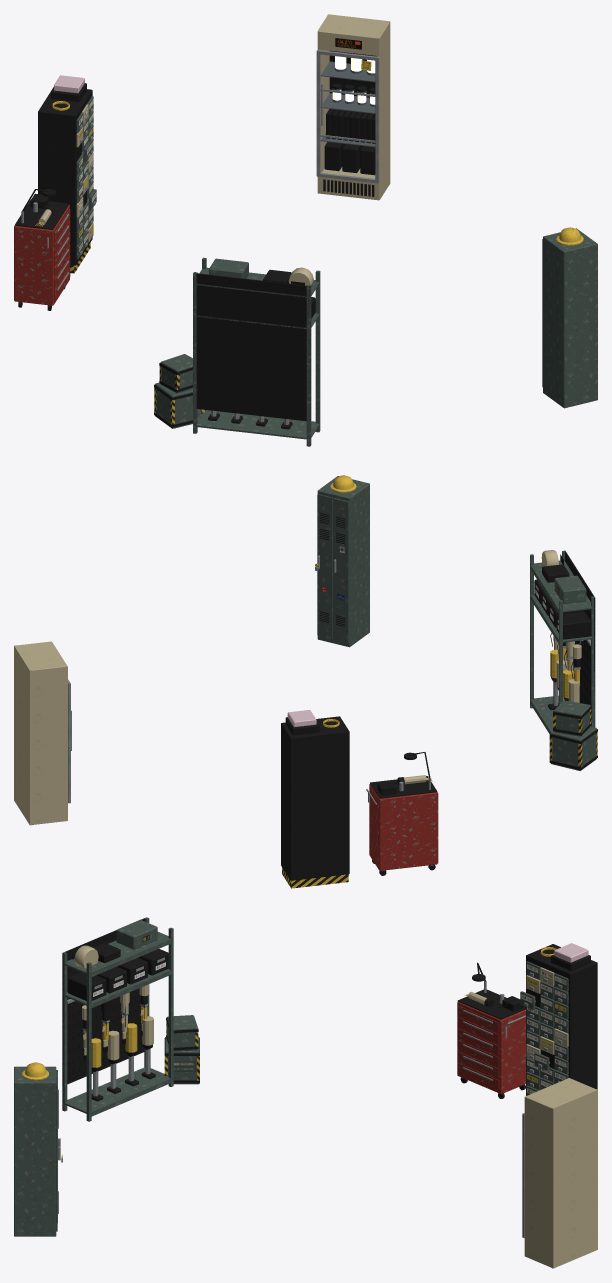
Rendered from ClinicStorageV2.fbx.
The picture shows the model from 3 angles, top to bottom: view 1: azimuth 30°, elevation 25°; view 2: azimuth 150°, elevation 25°; view 3: azimuth 270°, elevation 25°; orthographic projection. The views are drawn at different scales.
Visible parts, largest first — view 1: ST_SW_LimbRack, ST_NE_ColdCabinet, ST_S_Lockers, ST_NW_Drawers, ST_NW_ToolChest, ST_W_Crates, ST_Prints; view 2: ST_NW_Drawers, ST_NE_ColdCabinet, ST_S_Lockers, ST_SW_LimbRack, ST_NW_ToolChest, ST_W_Crates; view 3: ST_SW_LimbRack, ST_NE_ColdCabinet, ST_NW_Drawers, ST_S_Lockers, ST_NW_ToolChest, ST_Prints, ST_W_Crates.
Part boxes in pixels (bbox=[...]): ST_SW_LimbRack: bbox=[193, 257, 320, 446]; ST_NE_ColdCabinet: bbox=[316, 14, 390, 200]; ST_S_Lockers: bbox=[542, 227, 597, 408]; ST_NW_Drawers: bbox=[38, 75, 96, 273]; ST_NW_ToolChest: bbox=[14, 189, 70, 310]; ST_W_Crates: bbox=[154, 354, 204, 428]; ST_Prints: bbox=[46, 38, 371, 251]; ST_NW_Drawers: bbox=[281, 710, 349, 888]; ST_NE_ColdCabinet: bbox=[14, 641, 71, 825]; ST_S_Lockers: bbox=[315, 475, 369, 647]; ST_SW_LimbRack: bbox=[530, 550, 595, 733]; ST_NW_ToolChest: bbox=[366, 752, 438, 875]; ST_W_Crates: bbox=[549, 700, 597, 770]; ST_SW_LimbRack: bbox=[62, 917, 173, 1121]; ST_NE_ColdCabinet: bbox=[522, 1078, 597, 1268]; ST_NW_Drawers: bbox=[520, 943, 597, 1095]; ST_S_Lockers: bbox=[14, 1062, 62, 1236]; ST_NW_ToolChest: bbox=[457, 962, 525, 1098]; ST_Prints: bbox=[83, 934, 566, 1093]; ST_W_Crates: bbox=[164, 1015, 199, 1084].
Size of the model in its own units: 5.22 by 2.06 by 6.45.
